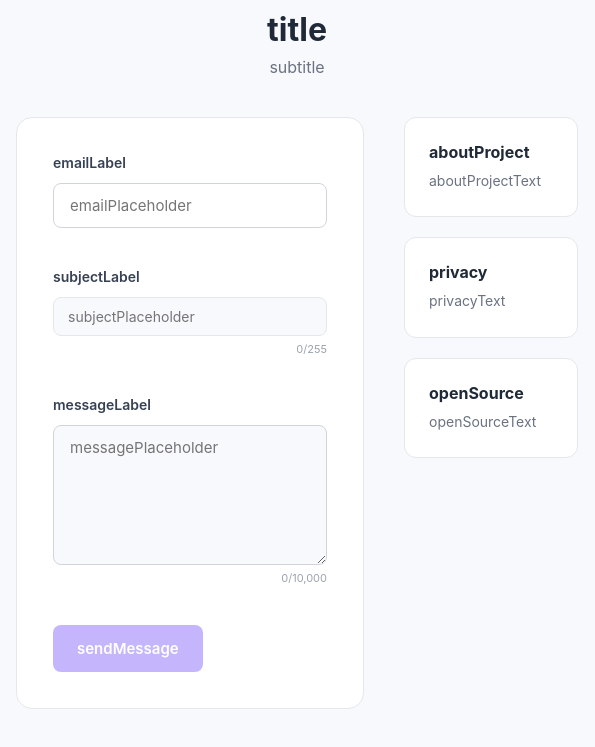
Test: ContactPage › shows email validation error for invalid email
In the field labelled "emailLabel": (190, 206) [53,183,327,228], type "invalid"
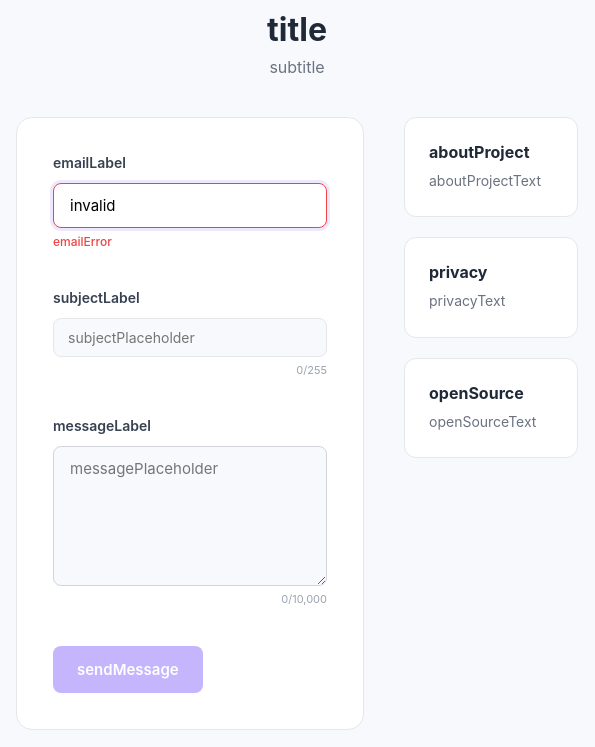
expect the text "emailError" is shown: met, box [53,234,112,249]
